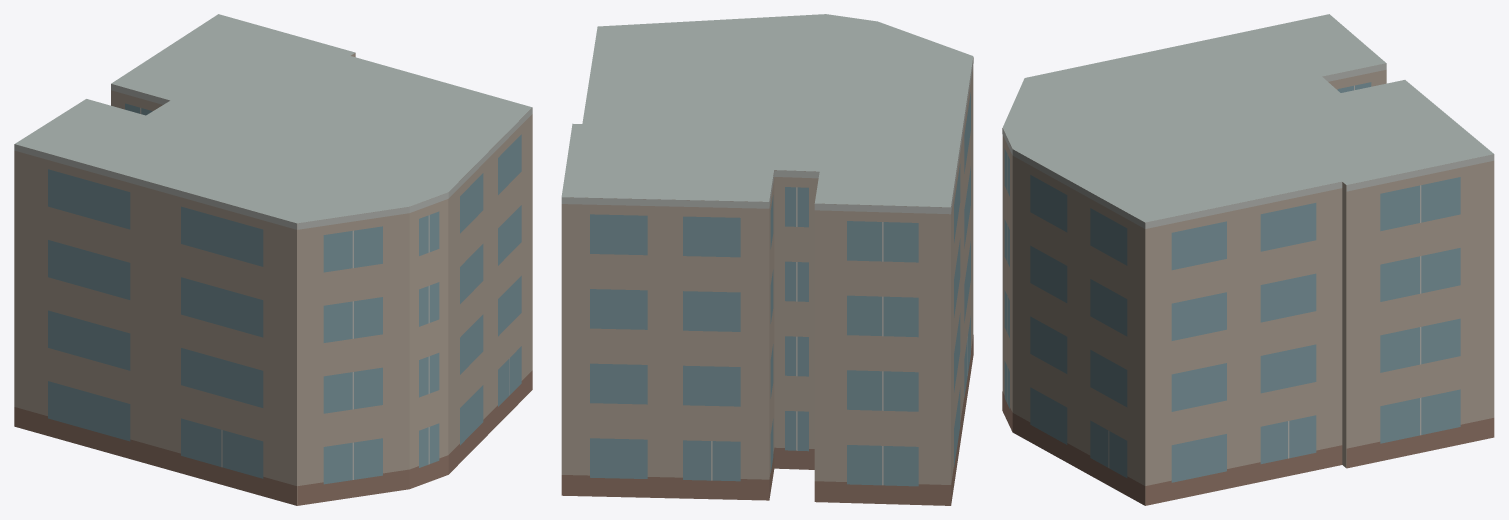
Rendered from survey-upis-32689731.glb.
The picture shows the model from 3 angles, left to right: view 1: azimuth 30°, elevation 25°; view 2: azimuth 150°, elevation 25°; view 3: azimuth 270°, elevation 25°; orthographic projection. The views are drawn at different scales.
Parts seen in each view (by area): view 1: survey-upis-32689731.tmp; view 2: survey-upis-32689731.tmp; view 3: survey-upis-32689731.tmp.
Part boxes in pixels (x1=…): survey-upis-32689731.tmp: x1=14, y1=14, x2=532, y2=505; survey-upis-32689731.tmp: x1=561, y1=14, x2=973, y2=505; survey-upis-32689731.tmp: x1=1002, y1=14, x2=1494, y2=505.
Bounding box in the file's own units: 16.83 × 10.65 × 16.77.
